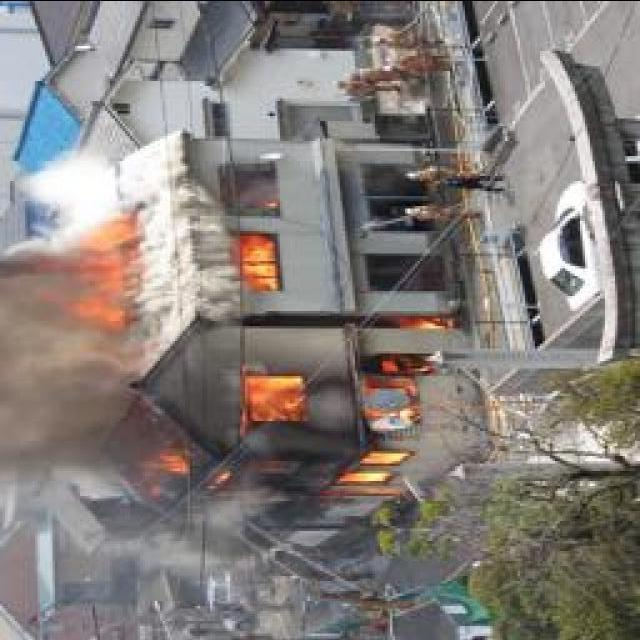Fire: (150, 348, 447, 518), (25, 213, 144, 335), (232, 221, 288, 296)
